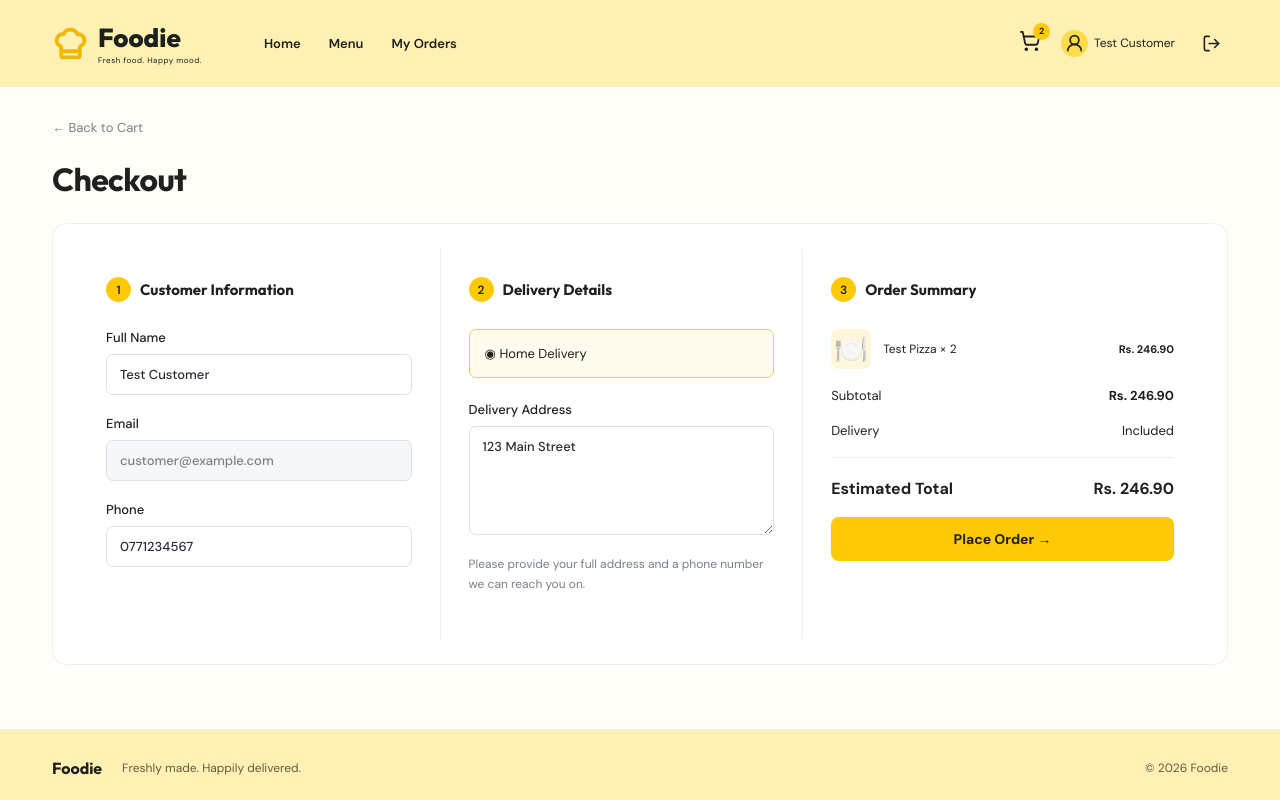
Test: customer and admin flows › submits food IDs and quantities, then shows the server-calculated confirmation
Check: the field labelled "Full Name" is shown, box [106, 354, 412, 395]
Click the button "Place Order →": (1003, 539) [831, 517, 1174, 561]
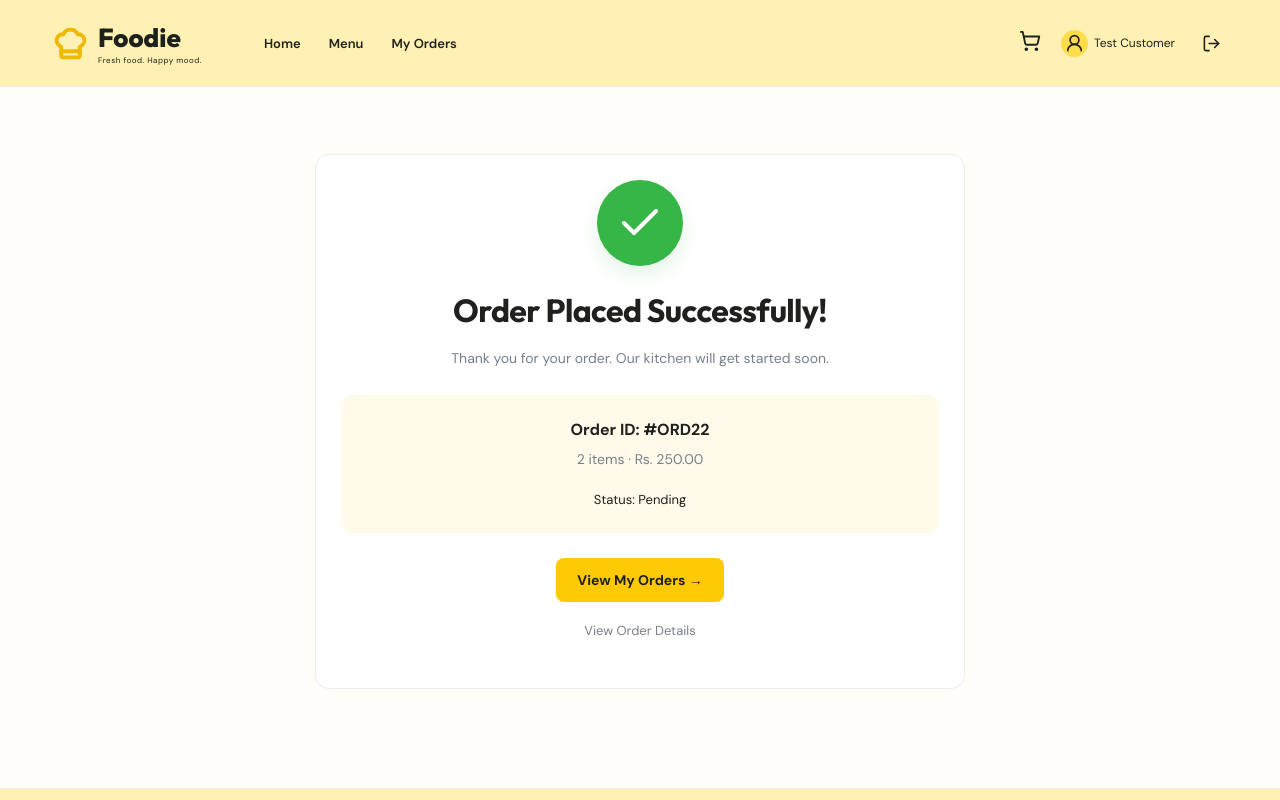
Check: the heading "Order Placed Successfully!" is shown, box [453, 290, 827, 330]
Check: the text "2 items · Rs. 250.00" is shown, box [577, 450, 703, 468]
